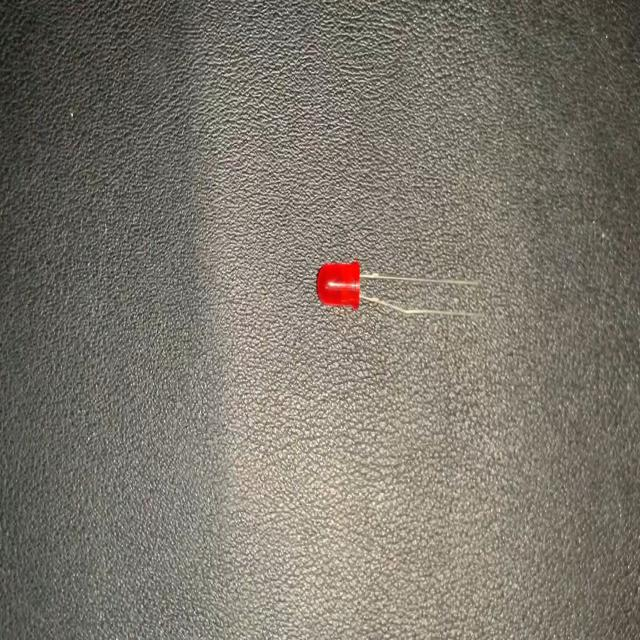LED: (316, 260, 480, 321)
